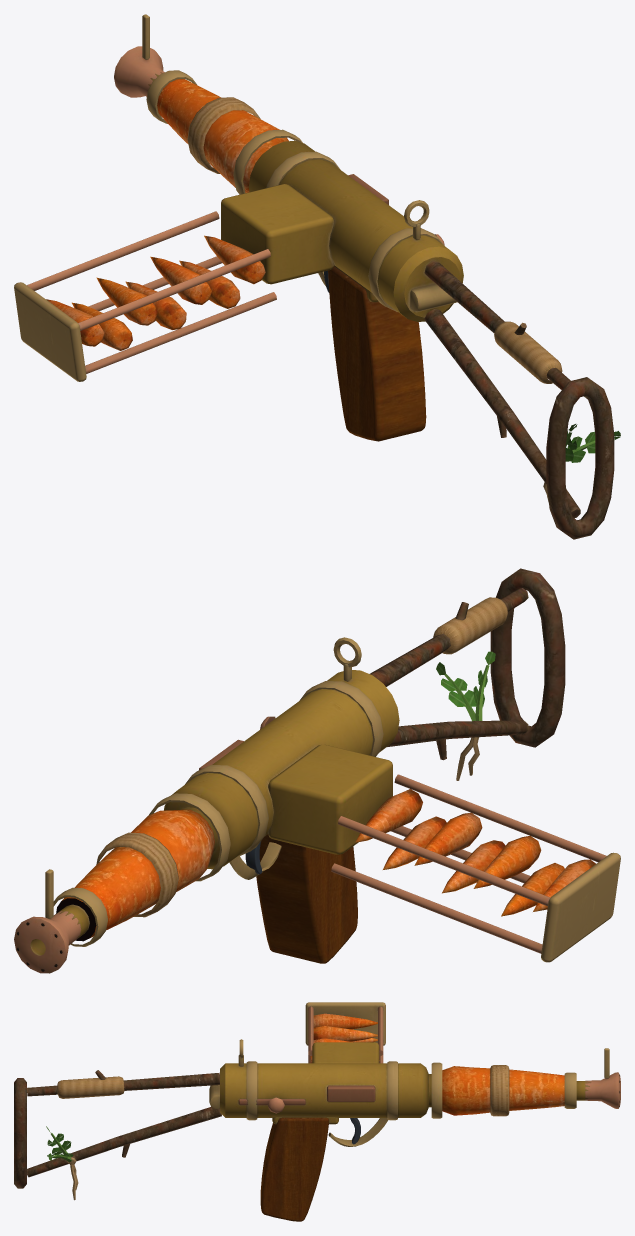
The model's file is carrot_smg.glb.
The picture shows the model from 3 angles, top to bottom: view 1: azimuth 30°, elevation 25°; view 2: azimuth 150°, elevation 25°; view 3: azimuth 270°, elevation 25°; orthographic projection. The views are drawn at different scales.
Visible parts, largest first — view 1: carrot_smg; view 2: carrot_smg; view 3: carrot_smg.
Boxes of the visible parts, x1,y1,x2,y2 form: carrot_smg: (14, 14, 620, 539); carrot_smg: (14, 568, 620, 973); carrot_smg: (14, 1002, 620, 1221).
Bounding box in the file's own units: 0.2096 × 0.1437 × 0.4534.
Materials: 1 (1 with a texture image).
